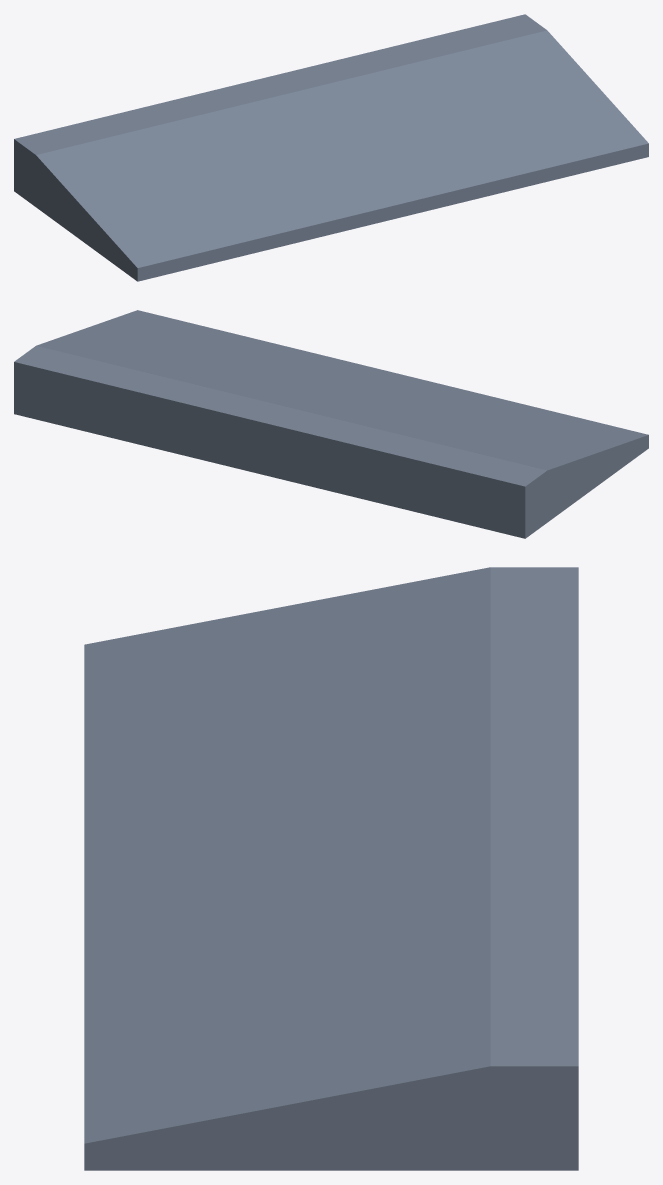
The model's file is keyboard.glb.
3 views of the same model, one above another, from view 1: azimuth 30°, elevation 25°; view 2: azimuth 150°, elevation 25°; view 3: azimuth 270°, elevation 25° (orthographic). The views are drawn at different scales.
Visible parts, largest first — view 1: computerKeyboard(Clone); view 2: computerKeyboard(Clone); view 3: computerKeyboard(Clone).
Part boxes in pixels (x1=…): computerKeyboard(Clone): x1=14, y1=14, x2=648, y2=281; computerKeyboard(Clone): x1=14, y1=310, x2=648, y2=538; computerKeyboard(Clone): x1=84, y1=567, x2=578, y2=1170.
Size of the model in its own units: 0.8 by 0.0781 by 0.3351.
